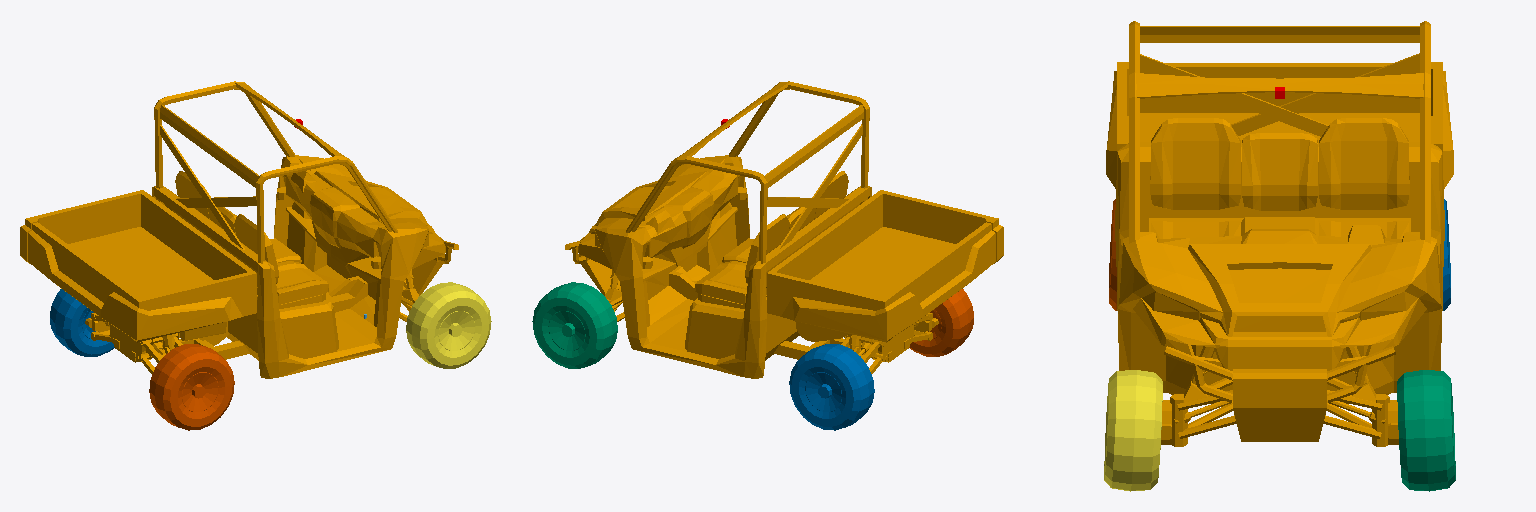
--- What the picture shows (computed from the rendered views, not written in the file) ---
3 views of the same robot in one strip: view 1: azimuth 30°, elevation 25°; view 2: azimuth 150°, elevation 25°; view 3: azimuth 270°, elevation 25° (orthographic).
Robot: ATV — 12 links, 11 joints (3 revolute, 6 continuous, 2 fixed); root link base_link; default pose: all joints at 0.
Links seen in each view (by area): view 1: base_link, front_right_wheel, rear_right_wheel, rear_left_wheel; view 2: base_link, front_left_wheel, rear_left_wheel, rear_right_wheel; view 3: base_link, front_left_wheel, front_right_wheel, rear_left_wheel, rear_right_wheel.
Link boxes in pixels (x1,y1,x2,y2): base_link: [20, 81, 458, 378]; front_right_wheel: [406, 282, 491, 368]; rear_right_wheel: [149, 344, 234, 430]; rear_left_wheel: [50, 289, 114, 356]; base_link: [565, 81, 1003, 378]; front_left_wheel: [532, 282, 617, 368]; rear_left_wheel: [789, 344, 874, 430]; rear_right_wheel: [909, 289, 973, 356]; base_link: [1106, 21, 1453, 446]; front_left_wheel: [1397, 370, 1455, 491]; front_right_wheel: [1104, 370, 1162, 491]; rear_left_wheel: [1443, 199, 1450, 310]; rear_right_wheel: [1109, 199, 1116, 310].
Size in the robot's own frame: 3.08 by 1.84 by 1.95 metres.
9 mesh visuals loaded from 9 distinct referenced files (8 Collada DAE); not drawn: 1 (reference not matched to a file when rendering).

robot.urdf — ATV:
<?xml version="1.0" ?>
<robot name="ATV">
  <joint name="imu_joint" type="fixed">
    <parent link="base_link"/>
    <child link="imu_link"/>
    <origin rpy="0  0  0" xyz="0  0  0"/>
    <axis xyz="1  0  0"/>
    <limit effort="0.0" lower="0.0" upper="0.0" velocity="0.0"/>
  </joint>
  <joint name="front_left_steering_joint" type="revolute">
    <parent link="base_link"/>
    <child link="front_left_wheel_steering_block"/>
    <origin rpy="1.57079  0       0" xyz="1.20222  0.5      0.35515"/>
    <axis xyz="0  1  0"/>
    <dynamics damping="1" friction="1"/>
    <limit effort="0.0" lower="-0.7727" upper="0.7727" velocity="0.0"/>
  </joint>
  <joint name="front_left_wheel_joint" type="continuous">
    <parent link="front_left_wheel_steering_block"/>
    <child link="front_left_wheel"/>
    <origin rpy="-3.09079  0       0" xyz="0      -0.00818 -0.21562"/>
    <axis xyz="0   0.00083   1"/>
    <dynamics damping="10" friction="5"/>
    <limit effort="0" velocity="0"/>
  </joint>
  <joint name="front_right_steering_joint" type="revolute">
    <parent link="base_link"/>
    <child link="front_right_wheel_steering_block"/>
    <origin rpy="1.57079  0       0" xyz="1.20222 -0.5      0.35515"/>
    <axis xyz="0  1  0"/>
    <dynamics damping="1" friction="1"/>
    <limit effort="1000" lower="-0.7727" upper="0.7727" velocity="5"/>
  </joint>
  <joint name="front_right_wheel_joint" type="continuous">
    <parent link="front_right_wheel_steering_block"/>
    <child link="front_right_wheel"/>
    <origin rpy="-0.05079  0       0" xyz="0      -0.00818  0.21562"/>
    <axis xyz="0   0.000083  -1"/>
    <limit effort="0" velocity="0"/>
    <dynamics damping="10" friction="5"/>
  </joint>
  <joint name="rear_left_wheel_joint" type="continuous">
    <parent link="base_link"/>
    <child link="rear_left_wheel"/>
    <origin rpy="-1.52  0    0" xyz="-0.99377  0.71562  0.34697"/>
    <axis xyz="0   0.00083   1"/>
    <dynamics damping="10" friction="5"/>
    <limit effort="10000" velocity="1000"/>
  </joint>
  <joint name="rear_right_wheel_joint" type="continuous">
    <parent link="base_link"/>
    <child link="rear_right_wheel"/>
    <origin rpy="1.52  0    0" xyz="-0.99377 -0.71562  0.34697"/>
    <axis xyz="0   0.00083  -1"/>
    <dynamics damping="10" friction="5"/>
    <limit effort="10000" velocity="1000"/>
  </joint>
  <!-- <joint name="front_left_rod_joint" type="revolute">
    <parent link="steering_rod"/>
    <child link="steering_rod_left_block"/>
    <origin rpy="1.57079  0       0" xyz="-0.5  0      0"/>
    <axis xyz="0  1  0"/>
    <limit effort="0.0" lower="0" upper="0" velocity="0.0"/>
  </joint>
  <joint name="front_right_rod_joint" type="revolute">
    <parent link="steering_rod"/>
    <child link="steering_rod_right_block"/>
    <origin rpy="1.57079  0       0" xyz="0.5  0      0"/>
    <axis xyz="0  1  0"/>
    <limit effort="0.0" lower="0" upper="0" velocity="0.0"/>
  </joint> -->
  <joint name="front_left_steering_rod_joint" type="continuous">
    <parent link="front_left_wheel_steering_block"/>
    <child link="steering_rod_left_block"/>
    <origin rpy="0  0       0" xyz="-0.5 0 0.11"/>
    <axis xyz="0  1 0"/>
    <limit effort="0.0" lower="0" upper="0" velocity="0.0"/>
  </joint>
  <joint name="front_right_steering_rod_joint" type="continuous">
    <parent link="front_right_wheel_steering_block"/>
    <child link="steering_rod_right_block"/>
    <origin rpy="1.57079  0       0" xyz="-0.5 0 -0.11"/>
    <axis xyz="0  0  1"/>
    <limit effort="0.0" lower="0" upper="0" velocity="0.0"/>
  </joint>
  <joint name="camera_joint" type="revolute">
    <parent link="base_link"/>
    <child link="camera_link"/>
    <axis xyz="0 1 0" />
    <origin xyz="0.35 0 1.9" rpy="0 0 0"/>
    <limit effort="0.0" lower="0" upper="0" velocity="0.0"/>
  </joint>
  <!-- <joint name="front_right_left_steering_rod_joint" type="fixed">
    <parent link="steering_rod_left_block"/>
    <child link="steering_rod_right_block"/>
    <origin rpy="1.57079  0       0" xyz="0  0      0.7"/>
    <axis xyz="0  0  1"/>
    <limit effort="0.0" lower="0" upper="0" velocity="0.0"/>
  </joint> -->
  <gazebo>
    <joint type="fixed" name="front_right_left_steering_rod_joint">
      <child>steering_rod_left_block</child>
      <parent>steering_rod_right_block</parent>
      <axis>
        <xyz>0 1 0</xyz>
        <dynamics>
          <damping>0</damping>
        </dynamics>
        <use_parent_model_frame>true</use_parent_model_frame>
      </axis>
    </joint>
    <joint type="revolute" name="rear_differential_joint">
      <child>rear_right_wheel</child>
      <parent>rear_left_wheel</parent>
      <axis>
        <xyz>0 1 0</xyz>
        <dynamics>
          <damping>70</damping>
        </dynamics>
        <use_parent_model_frame>true</use_parent_model_frame>
      </axis>
      <physics>
        <ode>
          <erp>0</erp>
          <cfm>1000</cfm>
          <cfm_damping>1</cfm_damping>
        </ode>
      </physics>
    </joint>
  </gazebo>
  <!-- <joint name="rear_differential_joint" type="continuous">
    <parent link="rear_left_wheel"/>
    <child link="rear_right_wheel"/>
    <origin rpy="-1.52  0    0" xyz="-0.99377  0.71562  0.34697"/>
    <axis xyz="0   0     1"/>
    <limit effort="0" lower="0" upper="0" velocity="0"/>
  </joint> -->
  <!-- <joint name="gas_joint" type="prismatic">
    <parent link="base_link"/>
    <child link="gas_pedal"/>
    <origin rpy="0  0  0" xyz="0.63     0.1      0.57999"/>
    <axis xyz="0.7071  0     -0.7071"/>
    <limit effort="0.0" lower="0.0" upper="0.08" velocity="0.0"/>
  </joint>
  <joint name="brake_joint" type="prismatic">
    <parent link="base_link"/>
    <child link="brake_pedal"/>
    <origin rpy="0  0  0" xyz="0.64     0.27     0.57999"/>
    <axis xyz="0.85749  0      -0.51449"/>
    <limit effort="0.0" lower="0.0" upper="0.08" velocity="0.0"/>
  </joint>
  <joint name="steering_joint" type="revolute">
    <parent link="base_link"/>
    <child link="steering_wheel"/>
    <origin rpy="0   -0.87  0" xyz="0.42  0.46  1.2"/>
    <axis xyz="0  0  1"/>
    <limit effort="0.0" lower="-3.14" upper="3.14" velocity="0.0"/>
  </joint>
  <joint name="hand_brake_joint" type="revolute">
    <parent link="base_link"/>
    <child link="hand_brake"/>
    <origin rpy="0  0  0" xyz="0.53   0.205  1.05"/>
    <axis xyz="0 -1  0"/>
    <limit effort="0.0" lower="0.0" upper="0.6" velocity="0.0"/>
  </joint>
  <joint name="FNR_switch_joint" type="revolute">
    <parent link="base_link"/>
    <child link="FNR_switch"/>
    <origin rpy="0    0.25  0" xyz="0.54     0.1      1.14999"/>
    <axis xyz="0 -1  0"/>
    <limit effort="0.0" lower="-0.3" upper="0.3" velocity="0.0"/>
  </joint> -->
  <link name="base_link">
    <inertial>
      <mass value="720.0"/>
      <origin rpy="0  0  0" xyz="0.1  0   0.4"/>
      <inertia ixx="140" ixy="0.0" ixz="0.0" iyy="550" iyz="0.0" izz="550"/>
    </inertial>
    <collision name="chassis_bottom">
      <origin rpy="0  0  0" xyz="0.2    0     0.335"/>
      <geometry>
        <box size="1.34 1.65746 0.06"/>
      </geometry>
    </collision>
    <collision name="cargo_bottom">
      <origin rpy="0  0  0" xyz="-1     0     0.921"/>
      <geometry>
        <box size="1.04609 1.6998 0.01"/>
      </geometry>
    </collision>
    <collision name="cargo_front">
      <origin rpy="0  0  0" xyz="-0.495  0     1.06"/>
      <geometry>
        <box size="0.05 1.69982 0.27"/>
      </geometry>
    </collision>
    <collision name="cargo_back">
      <origin rpy="0  0  0" xyz="-1.465  0     1.06"/>
      <geometry>
        <box size="0.05 1.69982 0.27"/>
      </geometry>
    </collision>
    <collision name="cargo_left">
      <origin rpy="0  0  0" xyz="-0.97     0.82491  1.06"/>
      <geometry>
        <box size="1.04609 0.05 0.27"/>
      </geometry>
    </collision>
    <collision name="cargo_right">
      <origin rpy="0  0  0" xyz="-0.97    -0.82491  1.06"/>
      <geometry>
        <box size="1.04609 0.05 0.27"/>
      </geometry>
    </collision>
    <collision name="seat">
      <origin rpy="0  0  0" xyz="0    0    0.62"/>
      <geometry>
        <box size="0.52167 1.37206 0.53369"/>
      </geometry>
    </collision>
    <collision name="mud_seat">
      <origin rpy="0  0  0" xyz="0    0    0.86"/>
      <geometry>
        <box size="0.52167 1.30 0.1"/>
      </geometry>
    </collision>
    <collision name="seat_back">
      <origin rpy="0  -0.2  0" xyz="-0.26   0     1.125"/>
      <geometry>
        <box size="0.06 1.37206 0.6"/>
      </geometry>
    </collision>
    <collision name="engine">
      <origin rpy="0  0  0" xyz="1.12  0    0.7"/>
      <geometry>
        <box size="0.58 1.3 0.8"/>
      </geometry>
    </collision>
    <collision name="rollcage_top_left">
      <origin rpy="3.14159  1.54159  3.14159" xyz="-0.02   0.76   1.936"/>
      <geometry>
        <cylinder length="0.68" radius="0.03"/>
      </geometry>
    </collision>
    <collision name="rollcage_top_right">
      <origin rpy="3.14159  1.54159  3.14159" xyz="-0.02  -0.76   1.936"/>
      <geometry>
        <cylinder length="0.68" radius="0.03"/>
      </geometry>
    </collision>
    <collision name="rollcage_top_front">
      <origin rpy="0 -1  0" xyz="0.315  0     1.93"/>
      <geometry>
        <box size="0.01299 1.54 0.10226"/>
      </geometry>
    </collision>
    <collision name="rollcage_top_back">
      <origin rpy="0  0  0" xyz="-0.41  0    1.88"/>
      <geometry>
        <box size="0.01299 1.54 0.10226"/>
      </geometry>
    </collision>
    <collision name="rollcage_front_left">
      <origin rpy="0   -0.54  0" xyz="0.602  0.755  1.45"/>
      <geometry>
        <cylinder length="1.15" radius="0.03"/>
      </geometry>
    </collision>
    <collision name="rollcage_front_right">
      <origin rpy="0   -0.54  0" xyz="0.602 -0.755  1.45"/>
      <geometry>
        <cylinder length="1.15" radius="0.03"/>
      </geometry>
    </collision>
    <collision name="rollcage_back_left">
      <origin rpy="0  0  0" xyz="-0.4    0.755  1.45"/>
      <geometry>
        <cylinder length="1.00" radius="0.03"/>
      </geometry>
    </collision>
    <collision name="rollcage_back_right">
      <origin rpy="0  0  0" xyz="-0.4   -0.755  1.45"/>
      <geometry>
        <cylinder length="1.00" radius="0.03"/>
      </geometry>
    </collision>
    <collision name="rollcage_X_1">
      <origin rpy="0.397  0     0" xyz="-0.411  0.04   1.445"/>
      <geometry>
        <box size="0.01392 1.557245 0.078"/>
      </geometry>
    </collision>
    <collision name="rollcage_X_2">
      <origin rpy="-0.397  0     0" xyz="-0.4   -0.04   1.445"/>
      <geometry>
        <box size="0.01392 1.557245 0.078"/>
      </geometry>
    </collision>
    <collision name="central_hump1_collision">
      <origin rpy="0  0  0" xyz="0.55 -0.1   0.4"/>
      <geometry>
        <box size="0.6 0.15 0.1"/>
      </geometry>
    </collision>
    <collision name="central_hump2_collision">
      <origin rpy="0  -0.5  0" xyz="0.7  -0.05  0.45"/>
      <geometry>
        <box size="0.20 0.05 0.1"/>
      </geometry>
    </collision>
    <collision name="central_hump3_collision">
      <origin rpy="0  -0.8  0" xyz="0.798 -0.125  0.478"/>
      <geometry>
        <box size="0.129 0.1 0.05"/>
      </geometry>
    </collision>
    <collision name="central_hump4_collision">
      <origin rpy="0  0  0" xyz="0.8135 -0.05    0.45"/>
      <geometry>
        <box size="0.10 0.05 0.1835"/>
      </geometry>
    </collision>
    <collision name="central_hump5_collision">
      <origin rpy="0  0  0" xyz="0.84  -0.125  0.45"/>
      <geometry>
        <box size="0.03 0.1 0.1835"/>
      </geometry>
    </collision>
    <collision name="central_hump6_collision">
      <origin rpy="0  0  0" xyz="0.82  -0.125  0.475"/>
      <geometry>
        <box size="0.03 0.1 0.05"/>
      </geometry>
    </collision>
    <visual name="visual">
      <origin rpy="0       0      -1.57079" xyz="0  0  0"/>
      <geometry>
        <mesh filename="package://atvsim_description/models/ATV/meshes/Body.dae" scale="1.0 1.0 1.0"/>
      </geometry>
    </visual>
    <visual name="cargo_visual">
      <origin rpy="0      0     -1.5707" xyz="-1.2      0      0.87"/>
      <geometry>
        <mesh filename="package://atvsim_description/models/ATV/meshes/Bed.dae" scale="1.0 1.0 1.0"/>
      </geometry>
    </visual>
    <visual name="tailgate_visual">
      <origin rpy="0      0     -1.5707" xyz="-1.492  0     0.9"/>
      <geometry>
        <mesh filename="package://atvsim_description/models/ATV/meshes/Tail_Gate.dae" scale="1.0 1.0 1.0"/>
      </geometry>
    </visual>
    <visual name="front_left_brake_visual">
      <origin rpy="3.1415  0      1.5707" xyz="1.12    -0.57487  0.35516"/>
      <geometry>
        <mesh filename="package://atvsim_description/models/ATV/meshes/Brake_Front_Left.dae" scale="1.0 1.0 1.0"/>
      </geometry>
    </visual>
    <visual name="front_right_brake_visual">
      <origin rpy="3.1415  0      1.5707" xyz="2.58     0.05  0.8"/>
      <geometry>
        <mesh filename="package://atvsim_description/models/ATV/meshes/Brake_Front_Right.dae" scale="1.0 1.0 1.0"/>
      </geometry>
    </visual>
    <visual name="central_hump1">
      <origin rpy="0  0  0" xyz="0.55 -0.1   0.4"/>
      <geometry>
        <box size="0.6 0.15 0.1"/>
      </geometry>
    </visual>
    <visual name="central_hump2">
      <origin rpy="0  -0.5  0" xyz="0.7  -0.05  0.45"/>
      <geometry>
        <box size="0.20 0.05 0.1"/>
      </geometry>
    </visual>
    <visual name="central_hump3">
      <origin rpy="0  -0.8  0" xyz="0.798 -0.125  0.478"/>
      <geometry>
        <box size="0.129 0.1 0.05"/>
      </geometry>
    </visual>
    <visual name="central_hump4">
      <origin rpy="0  0  0" xyz="0.8135 -0.05    0.45"/>
      <geometry>
        <box size="0.10 0.05 0.1835"/>
      </geometry>
    </visual>
    <visual name="central_hump5">
      <origin rpy="0  0  0" xyz="0.84  -0.125  0.45"/>
      <geometry>
        <box size="0.03 0.1 0.1835"/>
      </geometry>
    </visual>
    <visual name="central_hump6">
      <origin rpy="0  0  0" xyz="0.82  -0.125  0.475"/>
      <geometry>
        <box size="0.03 0.1 0.05"/>
      </geometry>
    </visual>
  </link>
  <link name="imu_link">
    <inertial>
      <mass value="0.015"/>
      <origin rpy="0  0  0" xyz="0  0  0"/>
      <inertia ixx="1e-05" ixy="0" ixz="0" iyy="1e-05" iyz="0" izz="1e-05"/>
    </inertial>
  </link>
  <link name="front_left_wheel">
    <inertial>
      <mass value="12"/>
      <origin rpy="0  0  0" xyz="0  0  0"/>
      <inertia ixx="0.5" ixy="0.0" ixz="0.0" iyy="0.5" iyz="0.0" izz="1.0"/>
    </inertial>
    <collision name="collision">
      <origin rpy="0  0  0" xyz="0  0  0"/>
      <geometry>
        <cylinder length="0.2794" radius="0.3175"/>
      </geometry>
    </collision>
    <visual name="tire_visual">
      <origin rpy="0  1.57079  0" xyz="0  0  -0.13"/>
      <geometry>
        <mesh filename="package://atvsim_description/models/ATV/meshes/Wheel_Front_Left.dae" scale="1.003700111 0.886200464 0.886200464"/>
      </geometry>
    </visual>
  </link>
  <link name="front_right_wheel">
    <inertial>
      <mass value="12"/>
      <origin rpy="0  0  0" xyz="0  0  0"/>
      <inertia ixx="0.5" ixy="0.0" ixz="0.0" iyy="0.5" iyz="0.0" izz="1.0"/>
    </inertial>
    <collision name="collision">
      <origin rpy="0  0  0" xyz="0  0  0"/>
      <geometry>
        <cylinder length="0.2794" radius="0.3175"/>
      </geometry>
    </collision>
    <visual name="visual">
      <origin rpy="0  1.57079  0" xyz="0  0  -0.13"/>
      <geometry>
        <mesh filename="package://atvsim_description/models/ATV/meshes/Wheel_Front_Left.dae" scale="1.003700111 0.886200464 0.886200464"/>
      </geometry>
    </visual>
  </link>
  <link name="rear_left_wheel">
    <inertial>
      <mass value="12"/>
      <origin rpy="0  0  0" xyz="0  0  0"/>
      <inertia ixx="0.5" ixy="0.0" ixz="0.0" iyy="0.5" iyz="0.0" izz="1.0"/>
    </inertial>
    <collision name="collision">
      <origin rpy="0  0  0" xyz="0  0  0"/>
      <geometry>
        <cylinder length="0.2794" radius="0.3175"/>
      </geometry>
    </collision>
    <visual name="visual">
      <origin rpy="0      1.57079  0" xyz="0  0  -0.13"/>
      <geometry>
        <mesh filename="package://atvsim_description/models/ATV/meshes/Wheels_Rear_Left.dae" scale="1.003700111 0.886200464 0.886200464"/>
      </geometry>
    </visual>
  </link>
  <link name="rear_right_wheel">
    <inertial>
      <mass value="12"/>
      <origin rpy="0  0  0" xyz="0  0  0"/>
      <inertia ixx="0.5" ixy="0.0" ixz="0.0" iyy="0.5" iyz="0.0" izz="1.0"/>
    </inertial>
    <collision name="collision">
      <origin rpy="0  0  0" xyz="0  0  0"/>
      <geometry>
        <cylinder length="0.2794" radius="0.3175"/>
      </geometry>
    </collision>
    <visual name="visual">
      <origin rpy="0      -1.57079  0" xyz="0  0  -0.13"/>
      <geometry>
        <mesh filename="package://atvsim_description/models/ATV/meshes/Wheels_Rear_Right.dae" scale="1.003700111 0.886200464 0.886200464"/>
      </geometry>
    </visual>
  </link>
  <!-- <link name="gas_pedal">
    <inertial>
      <mass value="0.1"/>
      <origin rpy="0  0  0" xyz="0  0  0"/>
      <inertia ixx="0.01" ixy="0" ixz="0" iyy="0.01" iyz="0" izz="0.01"/>
    </inertial>
    <collision name="gas_pedal_collision">
      <origin rpy="3.14159  1.12559  3.14159" xyz="-0.0385  0     -0.086"/>
      <geometry>
        <box size="0.1069000 0.0770000 0.010000"/>
      </geometry>
    </collision>
    <visual name="visual">
      <origin rpy="0      0     -1.5707" xyz="0  0  0"/>
      <geometry>
        <mesh filename="package://atvsim_description/models/ATV/meshes/Gas_Pedal.dae" scale="1.0 1.0 1.0"/>
      </geometry>
    </visual>
  </link>
  <link name="brake_pedal">
    <inertial>
      <mass value="0.1"/>
      <origin rpy="0  0  0" xyz="0  0  0"/>
      <inertia ixx="0.01" ixy="0" ixz="0" iyy="0.01" iyz="0" izz="0.01"/>
    </inertial>
    <collision name="brake_pedal_collision">
      <origin rpy="3.14159  1.14259  3.14159" xyz="-0.04   0    -0.086"/>
      <geometry>
        <box size="0.063 0.08 0.01"/>
      </geometry>
    </collision>
    <visual name="visual">
      <origin rpy="0      0     -1.5707" xyz="0  0  0"/>
      <geometry>
        <mesh filename="package://atvsim_description/models/ATV/meshes/Brake_Pedal.dae" scale="1.0 1.0 1.0"/>
      </geometry>
    </visual>
  </link> -->
  <link name="front_right_wheel_steering_block">
    <inertial>
      <mass value="1"/>
      <origin rpy="0  0  0" xyz="0  0  0"/>
      <inertia ixx="1.0" ixy="0.0" ixz="0.0" iyy="1.0" iyz="0.0" izz="1.0"/>
    </inertial>
    <collision name="collision">
      <origin rpy="0  0  0" xyz="0  0  0"/>
      <geometry>
        <cylinder length="0.01" radius="0.05"/>
      </geometry>
    </collision>
  </link>
  <link name="front_left_wheel_steering_block">
    <inertial>
      <mass value="1"/>
      <origin rpy="0  0  0" xyz="0  0  0"/>
      <inertia ixx="1.0" ixy="0.0" ixz="0.0" iyy="1.0" iyz="0.0" izz="1.0"/>
    </inertial>
    <collision name="collision">
      <origin rpy="0  0  0" xyz="0  0  0"/>
      <geometry>
        <cylinder length="0.01" radius="0.05"/>
      </geometry>
    </collision>
  </link>
  <!-- <link name="steering_rod">
    <inertial>
      <mass value="1"/>
      <origin rpy="0  0  0" xyz="0  0  0"/>
      <inertia ixx="1.0" ixy="0.0" ixz="0.0" iyy="1.0" iyz="0.0" izz="1.0"/>
    </inertial>
    <collision name="collision">
      <origin rpy="3.14159  0  0" xyz="0  0  0"/>
      <geometry>
        <cylinder length="1" radius="0.01"/>
      </geometry>
    </collision>
    <visual name="tied_rod">
      <origin rpy="3.14159  0  0" xyz="0 0   0"/>
      <geometry>
        <cylinder length="1" radius="0.01"/>
      </geometry>
    </visual>
  </link> -->
  <link name="steering_rod_left_block">
    <inertial>
      <mass value="1"/>
      <origin rpy="0  0  0" xyz="0  0  0"/>
      <inertia ixx="1.0" ixy="0.0" ixz="0.0" iyy="1.0" iyz="0.0" izz="1.0"/>
    </inertial>
    <collision name="collision">
      <origin rpy="0 0    0" xyz="0  0  0.35"/>
      <geometry>
        <cylinder length="0.7" radius="0.01"/>
      </geometry>
    </collision>
    <visual name="tied_rod_left">
      <origin rpy="0 0  0" xyz="0 0   0.39"/>
      <geometry>
        <cylinder length="0.78" radius="0.01"/>
      </geometry>
    </visual>
  </link>
  <link name="steering_rod_right_block">
    <inertial>
      <mass value="1"/>
      <origin rpy="0  0  0" xyz="0  0  0"/>
      <inertia ixx="1.0" ixy="0.0" ixz="0.0" iyy="1.0" iyz="0.0" izz="1.0"/>
    </inertial>
    <collision name="collision">
      <origin rpy="0  0  0" xyz="0  0  0"/>
      <geometry>
        <cylinder length="0.1" radius="0.01"/>
      </geometry>
    </collision>
    <visual name="tied_rod_right">
      <origin rpy="0  0  0" xyz="0 0   0"/>
      <geometry>
        <cylinder length="0.1" radius="0.01"/>
      </geometry>
    </visual>
  </link>


  <joint name="hokuyo_joint" type="fixed">
    <axis xyz="0 1 0" />
    <origin xyz="1.2 0 1.2" rpy="0 0 0"/>
    <parent link="base_link"/>
    <child link="hokuyo_link"/>
  </joint>

  <!-- Hokuyo Laser -->
  <link name="hokuyo_link">
    <collision>
      <origin xyz="0 0 0" rpy="0 0 3.14159265"/>
      <geometry>
    <box size="0.1 0.1 0.1"/>
      </geometry>
    </collision>

    <visual>
      <origin xyz="0 0 0" rpy="0 0 0"/>
      <geometry>
        <mesh filename="package://atvsim_description/models/ATV/meshes/hokuyo.dae"/>
      </geometry>
    </visual>

    <inertial>
      <mass value="1e-5" />
      <origin xyz="0 0 0" rpy="0 0 0"/>
      <inertia ixx="1e-6" ixy="0" ixz="0" iyy="1e-6" iyz="0" izz="1e-6" />
    </inertial>
  </link>
  <!-- Camera -->
  <link name="camera_link">
    <inertial>
      <mass value="1e-5" />
      <origin xyz="0 0 0" rpy="0 0 0"/>
      <inertia ixx="1e-6" ixy="0" ixz="0" iyy="1e-6" iyz="0" izz="1e-6" />
    </inertial>
    <collision name="collision">
      <origin xyz="0 0 0" rpy="0 0 0"/>
      <geometry>
        <box size="0.05 0.05 0.05"/>
      </geometry>
    </collision>

    <visual name="camera_front">
      <origin xyz="0 0 0" rpy="0 0 0"/>
      <geometry>
        <box size="0.05 0.05 0.05"/>
      </geometry>
      <material name="red">
        <color rgba="1 0 0 1" />
      </material>
    </visual>
  </link>
  <!-- <link name="steering_wheel">
    <inertial>
      <mass value="1.0"/>
      <origin rpy="0  0  0" xyz="-0.002  0     0"/>
      <inertia ixx="0.012" ixy="0" ixz="0" iyy="0.012" iyz="0" izz="0.024"/>
    </inertial>
    <collision name="collision">
      <origin rpy="-0.6108   0      -1.57079" xyz="-0.03     0      -0.12082"/>
      <geometry>
        <mesh filename="package://atvsim_description/models/ATV/meshes/Steering_Wheel.dae" scale="1.0 1.0 1.0"/>
      </geometry>
    </collision>
    <visual name="visual">
      <origin rpy="-0.6108   0      -1.57079" xyz="-0.03     0      -0.12082"/>
      <geometry>
        <mesh filename="package://atvsim_description/models/ATV/meshes/Steering_Wheel.dae" scale="1.0 1.0 1.0"/>
      </geometry>
    </visual>
  </link>
  <link name="hand_brake">
    <inertial>
      <mass value="0.5"/>
      <origin rpy="0  0  0" xyz="0  0  0"/>
      <inertia ixx="0.1" ixy="0" ixz="0" iyy="0.1" iyz="0" izz="0.05"/>
    </inertial>
    <collision name="hand_brake_collision">
      <origin rpy="-0.2      0      -1.57079" xyz="0    0    0.05"/>
      <geometry>
        <mesh filename="package://atvsim_description/models/ATV/meshes/Shifter.dae" scale="1.0 1.0 1.0"/>
      </geometry>
    </collision>
    <visual name="hand_brake_visual">
      <origin rpy="-0.2      0      -1.57079" xyz="0    0    0.05"/>
      <geometry>
        <mesh filename="package://atvsim_description/models/ATV/meshes/Shifter.dae" scale="1.0 1.0 1.0"/>
      </geometry>
    </visual>
  </link>
  <link name="FNR_switch">
    <inertial>
      <mass value="0.1"/>
      <origin rpy="0  0  0" xyz="0  0  0"/>
      <inertia ixx="0.1" ixy="0" ixz="0" iyy="0.00006" iyz="0" izz="0.1"/>
    </inertial>
    <collision name="FNR_switch">
      <origin rpy="0  0  0" xyz="0  0  0"/>
      <geometry>
        <box size="0.02 0.04 0.08"/>
      </geometry>
    </collision>
    <visual name="FNR_switch_F">
      <origin rpy="0  0  0" xyz="0  0  0"/>
      <geometry>
        <box size="0.02 0.04 0.08"/>
      </geometry>
    </visual>
    <visual name="FNR_switch_R">
      <origin rpy="0  0  0" xyz="0  0  0"/>
      <geometry>
        <box size="0.0199 0.0399 0.0799"/>
      </geometry>
    </visual>
  </link> -->
  <gazebo reference="front_left_steering_joint">
    <axis>
      <dynamics>
        <damping>50.0</damping>
      </dynamics>
    </axis>
    <physics>
      <ode>
        <cfm_damping>1</cfm_damping>
        <limit>
          <cfm>0.000000</cfm>
          <erp>0.900000</erp>
        </limit>
      </ode>
    </physics>
  </gazebo>
  <gazebo reference="front_right_steering_joint">
    <axis>
      <dynamics>
        <damping>50.0</damping>
      </dynamics>
    </axis>
    <physics>
      <ode>
        <cfm_damping>1</cfm_damping>
        <limit>
          <cfm>0.000000</cfm>
          <erp>0.900000</erp>
        </limit>
      </ode>
    </physics>
  </gazebo>
  <!-- <gazebo reference="rear_differential_joint">
    <axis>
      <dynamics>
        <damping>70.0</damping>
      </dynamics>
    </axis>
    <physics>
      <ode>
        <erp>0</erp>
        <cfm>1000</cfm>
        <cfm_damping>1</cfm_damping>
      </ode>
    </physics>
  </gazebo> -->
  <gazebo reference="front_left_wheel">
    <pose>1.20223 0.71562 0.34697 -1.52 0.0 0.0</pose>
    <collision name="collision">
      <max_contacts>1</max_contacts>
      <surface>
        <friction>
          <ode>
            <mu>1.0</mu>
            <mu2>1.0</mu2>
            <fdir1>0 0 1</fdir1>
            <slip1>0.0</slip1>
            <slip2>0.0</slip2>
          </ode>
        </friction>
        <contact>
          <ode>
            <min_depth>0.005</min_depth>
            <kp>1e8</kp>
          </ode>
        </contact>
      </surface>
    </collision>
  </gazebo>
  <gazebo reference="front_right_wheel">
    <!-- <pose>1.20223 -0.71562 0.34697 1.52 0.0 0.0</pose> -->
    <collision name="collision">
      <max_contacts>1</max_contacts>
      <surface>
        <friction>
          <ode>
            <mu>1.0</mu>
            <mu2>1.0</mu2>
            <fdir1>0 0 1</fdir1>
            <slip1>0.0</slip1>
            <slip2>0.0</slip2>
          </ode>
        </friction>
        <contact>
          <ode>
            <min_depth>0.005</min_depth>
            <kp>1e8</kp>
          </ode>
        </contact>
      </surface>
    </collision>
  </gazebo>
  <gazebo reference="rear_left_wheel">
    <!-- <pose>1.20223 -0.71562 0.34697 1.52 0.0 0.0</pose> -->
    <collision name="collision">
      <max_contacts>1</max_contacts>
      <surface>
        <friction>
          <ode>
            <mu>1.0</mu>
            <mu2>1.0</mu2>
            <fdir1>0 0 1</fdir1>
            <slip1>0.0</slip1>
            <slip2>0.0</slip2>
          </ode>
        </friction>
        <contact>
          <ode>
            <min_depth>0.005</min_depth>
            <kp>1e8</kp>
          </ode>
        </contact>
      </surface>
    </collision>
  </gazebo>
  <gazebo reference="rear_right_wheel">
    <!-- <pose>1.20223 -0.71562 0.34697 1.52 0.0 0.0</pose> -->
    <collision name="collision">
      <max_contacts>1</max_contacts>
      <surface>
        <friction>
          <ode>
            <mu>1.0</mu>
            <mu2>1.0</mu2>
            <fdir1>0 0 1</fdir1>
            <slip1>0.0</slip1>
            <slip2>0.0</slip2>
          </ode>
        </friction>
        <contact>
          <ode>
            <min_depth>0.005</min_depth>
            <kp>1e8</kp>
          </ode>
        </contact>
      </surface>
    </collision>
  </gazebo>
  <!-- camera -->
  <gazebo reference="camera_link">
    <material>Gazebo/red</material>
    <sensor type="camera" name="camera1">
      <update_rate>30.0</update_rate>
      <camera name="head">
       <horizontal_fov>1.3962634</horizontal_fov>
       <image>
         <width>800</width>
         <height>800</height>
         <format>R8G8B8</format>
       </image>
       <clip>
         <near>0.02</near>
         <far>300</far>
       </clip>
       <noise>
         <type>gaussian</type>
         <mean>0.0</mean>
         <stddev>0.007</stddev>
       </noise>
     </camera>
      <plugin name="camera_controller" filename="libgazebo_ros_camera.so">
        <alwaysOn>true</alwaysOn>
        <updateRate>0.0</updateRate>
        <cameraName>front_camera</cameraName>
        <imageTopicName>front_image_raw</imageTopicName>
        <cameraInfoTopicName>front_camera_info</cameraInfoTopicName>
        <frameName>camera_link</frameName>
        <hackBaseline>0.07</hackBaseline>
        <distortionK1>0.0</distortionK1>
        <distortionK2>0.0</distortionK2>
        <distortionK3>0.0</distortionK3>
        <distortionT1>0.0</distortionT1>
        <distortionT2>0.0</distortionT2>
     </plugin>
   </sensor>
  </gazebo>
  <!-- hokuyo -->
  <gazebo reference="hokuyo_link">
    <sensor type="ray" name="head_hokuyo_sensor">
    <pose>0 0 0 0 0 0</pose>
    <visualize>false</visualize>
    <update_rate>40</update_rate>
    <ray>
      <scan>
        <horizontal>
          <samples>720</samples>
          <resolution>1</resolution>
          <min_angle>-1.57</min_angle>
          <max_angle>1.57</max_angle>
        </horizontal>
      </scan>
      <range>
        <min>0.10</min>
        <max>30.0</max>
        <resolution>0.01</resolution>
      </range>
      <noise>
        <type>gaussian</type>
        <mean>0.0</mean>
        <stddev>0.01</stddev>
      </noise>
    </ray>
    <plugin name="gazebo_ros_head_hokuyo_controller" filename="libgazebo_ros_laser.so">
      <topicName>scan</topicName>
      <frameName>hokuyo_link</frameName>
    </plugin>
  </sensor>
  </gazebo>
  <gazebo>
    <plugin name="gps_controller" filename="libhector_gazebo_ros_gps.so">
      <alwayson>true</alwayson>
      <!-- <frameID>fix</frameID> -->
      <updaterate>20</updaterate>
      <bodyname>base_link</bodyname>
      <topicname>fix</topicname>
      <velocitytopicname>fix_velocity</velocitytopicname>
      <referenceLatitude>37.228369</referenceLatitude>
      <referenceLongitude>-80.423045</referenceLongitude>
      <referenceHeading>90</referenceHeading>
      <drift>0 0 0</drift>
      <!-- <drift>1.0 1.0 1.0</drift> -->
      <gaussiannoise>0 0 0</gaussiannoise>
      <!-- <gaussiannoise>0.1 0.1 0.1</gaussiannoise> -->
      <velocitydrift>0 0 0</velocitydrift>
      <velocitygaussiannoise>0 0 0</velocitygaussiannoise>
      <!-- <velocitygaussiannoise>0.1 0.1 0.1</velocitygaussiannoise> -->
    </plugin>
    <plugin filename="libhector_gazebo_ros_imu.so" name="imu_plugin">
      <updateRate>200</updateRate>
      <bodyName>imu_link</bodyName>
      <topicName>imu</topicName>
      <serviceName>imu/calibrate</serviceName>
      <accelOffset>0.0 0.0 0.0</accelOffset>
      <accelDrift>0.0 0.0 0.0</accelDrift>
      <accelDriftFrequency>0.0 0.0 0.0</accelDriftFrequency>
      <accelGaussianNoise>0.0 0.0 0.0</accelGaussianNoise>
      <rateOffset>0.0 0.0 0.0</rateOffset>
      <rateDrift>0.0 0.0 0.0</rateDrift>
      <rateDriftFrequency>0.0 0.0 0.0</rateDriftFrequency>
      <rateGaussianNoise>0.0 0.0 0.0</rateGaussianNoise>
      <headingOffset>0.0</headingOffset>
      <headingDrift>0.0</headingDrift>
      <headingDriftFrequency>0.0</headingDriftFrequency>
      <headingGaussianNoise>0.0</headingGaussianNoise>
      <rpyOffset>0.0 0.0 0.0</rpyOffset>
      <xyzOffset>0.0 0.0 0.0</xyzOffset>
      <gaussianNoise>0.0</gaussianNoise>
      <yawOffset>-1.5708</yawOffset>
    </plugin>
    <plugin name="gazebo_ros_control" filename="libgazebo_ros_control.so">
      <robotNamespace>/</robotNamespace>
    </plugin>
    <plugin name="differential_drive_controller" filename="libgazebo_ros_diff_drive.so">
      <alwaysOn>true</alwaysOn>
      <updateRate>$50</updateRate>
      <leftJoint>rear_left_wheel_joint</leftJoint>
      <rightJoint>rear_right_wheel_joint</rightJoint>
      <wheelSeparation>1.43124</wheelSeparation>
      <wheelDiameter>0.635</wheelDiameter>
      <wheelTorque>300</wheelTorque>
      <commandTopic>rear_wheel_vel</commandTopic>
      <odometryTopic>odom_diff</odometryTopic>
      <odometryFrame>odom_diff</odometryFrame>
      <robotBaseFrame>base_link</robotBaseFrame>
      <publishOdomTF>false</publishOdomTF>
    </plugin>

  </gazebo>
  <!-- <transmission name="rear_wheel_left_trans">
    <type>transmission_interface/SimpleTransmission</type>
    <actuator name="$rear_wheel_left_motor">
      <mechanicalReduction>1</mechanicalReduction>
    </actuator>
    <joint name="rear_left_wheel_joint">
      <hardwareInterface>hardware_interface/EffortJointInterface</hardwareInterface>
    </joint>
  </transmission>
  <transmission name="rear_wheel_right_trans">
    <type>transmission_interface/SimpleTransmission</type>
    <actuator name="$rear_wheel_right_motor">
      <mechanicalReduction>1</mechanicalReduction>
    </actuator>
    <joint name="rear_right_wheel_joint">
      <hardwareInterface>hardware_interface/EffortJointInterface</hardwareInterface>
    </joint>
  </transmission> -->
  <transmission name="steering_trans">
    <type>transmission_interface/SimpleTransmission</type>
    <actuator name="$steering_motor">
      <mechanicalReduction>1</mechanicalReduction>
    </actuator>
    <joint name="front_right_steering_joint">
      <hardwareInterface>hardware_interface/PositionJointInterface</hardwareInterface>
    </joint>
  </transmission>
</robot>
